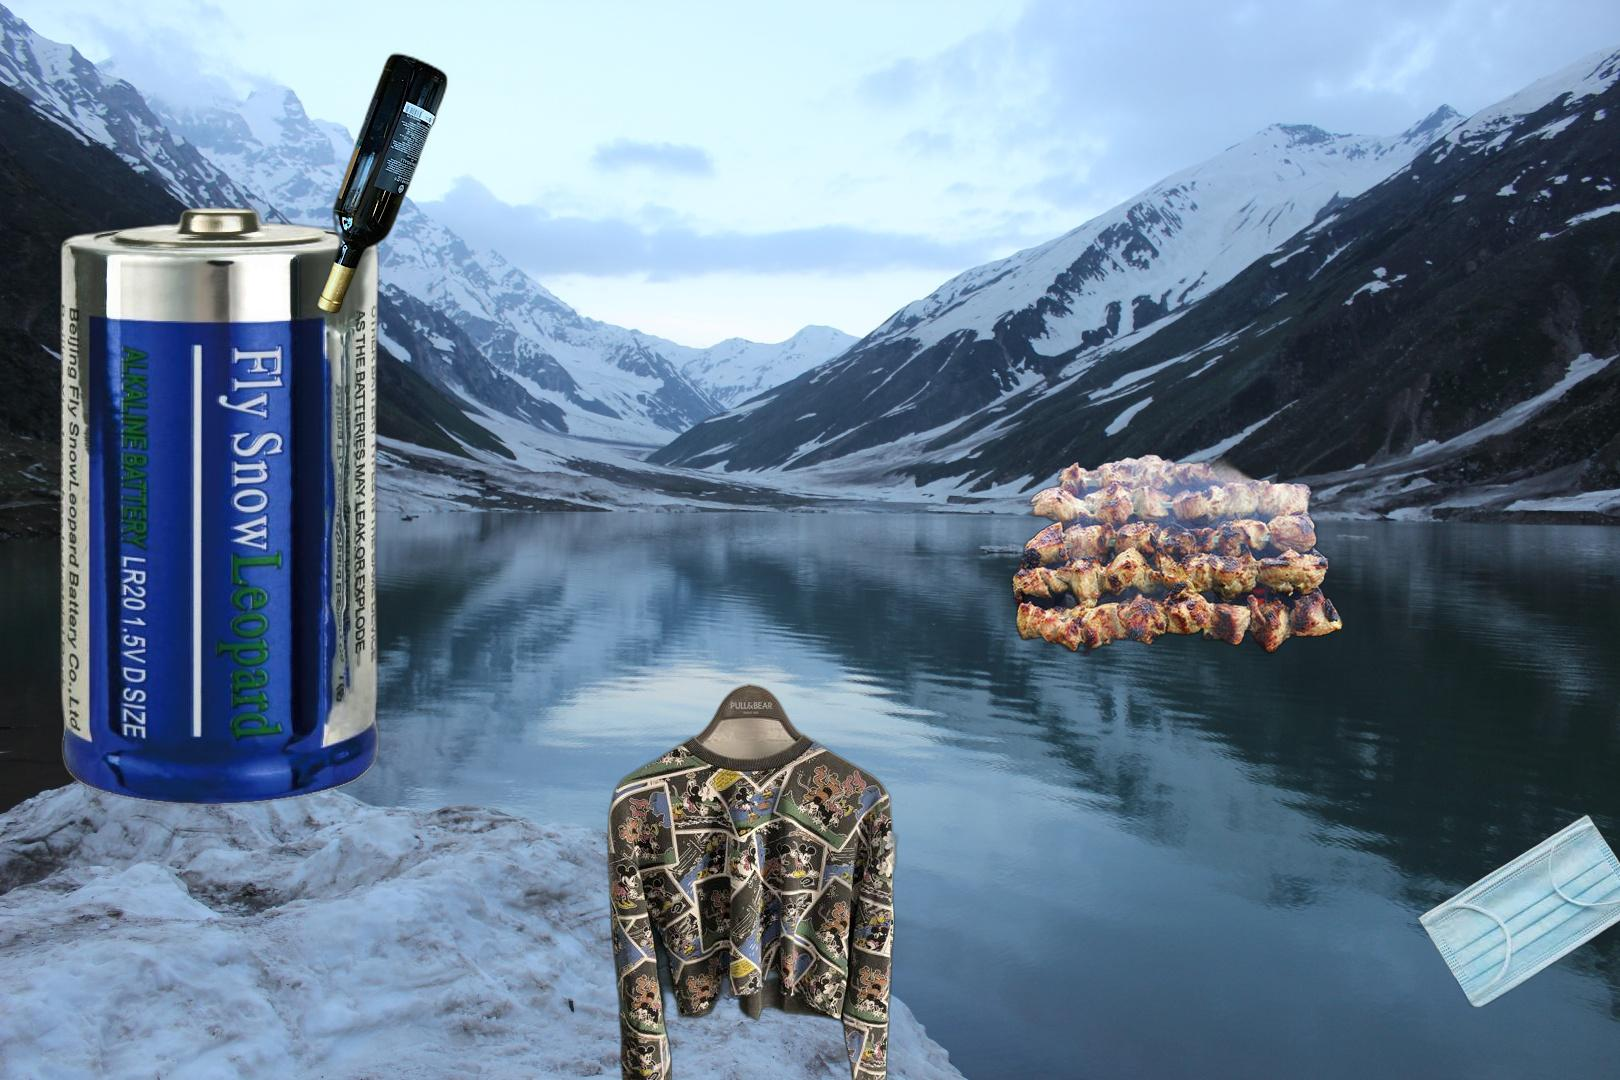battery: (55, 201, 385, 810)
biological: (1005, 430, 1356, 658)
clothes: (605, 664, 902, 1080)
glass: (312, 48, 452, 319)
trash: (1414, 812, 1620, 1006)
